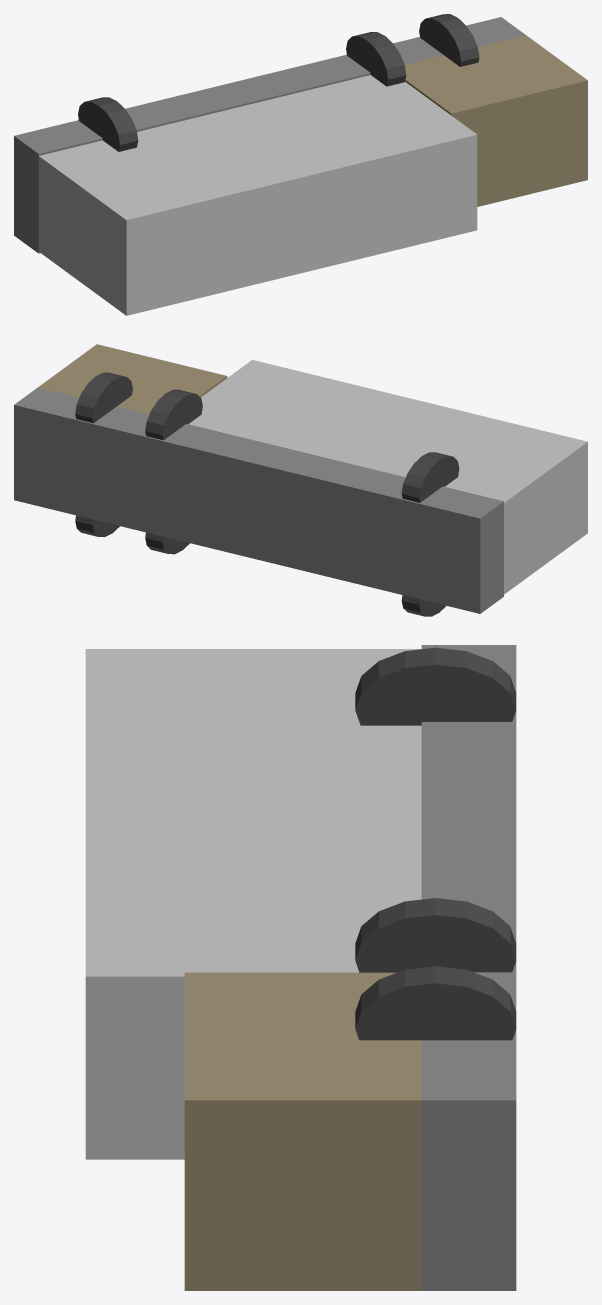
File: curated_box_truck.glb
3 views of the same model, one above another, from view 1: azimuth 30°, elevation 25°; view 2: azimuth 150°, elevation 25°; view 3: azimuth 270°, elevation 25° (orthographic). The views are drawn at different scales.
Visible parts, largest first — view 1: geometry_0; view 2: geometry_0; view 3: geometry_0.
Part boxes in pixels (x1,y1,x2,y2): geometry_0: (14,14,587,315); geometry_0: (14,344,587,616); geometry_0: (85,645,516,1290).
Size of the model in its own units: 8 by 2.5 by 3.2.
